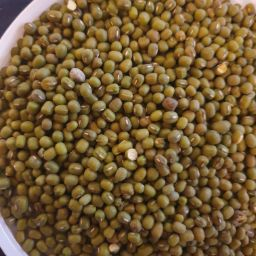Green gram dal(moong): (24, 26, 129, 256), (172, 21, 256, 256), (129, 39, 216, 256), (19, 20, 256, 76), (65, 90, 206, 182), (37, 2, 256, 55), (2, 55, 50, 251)
